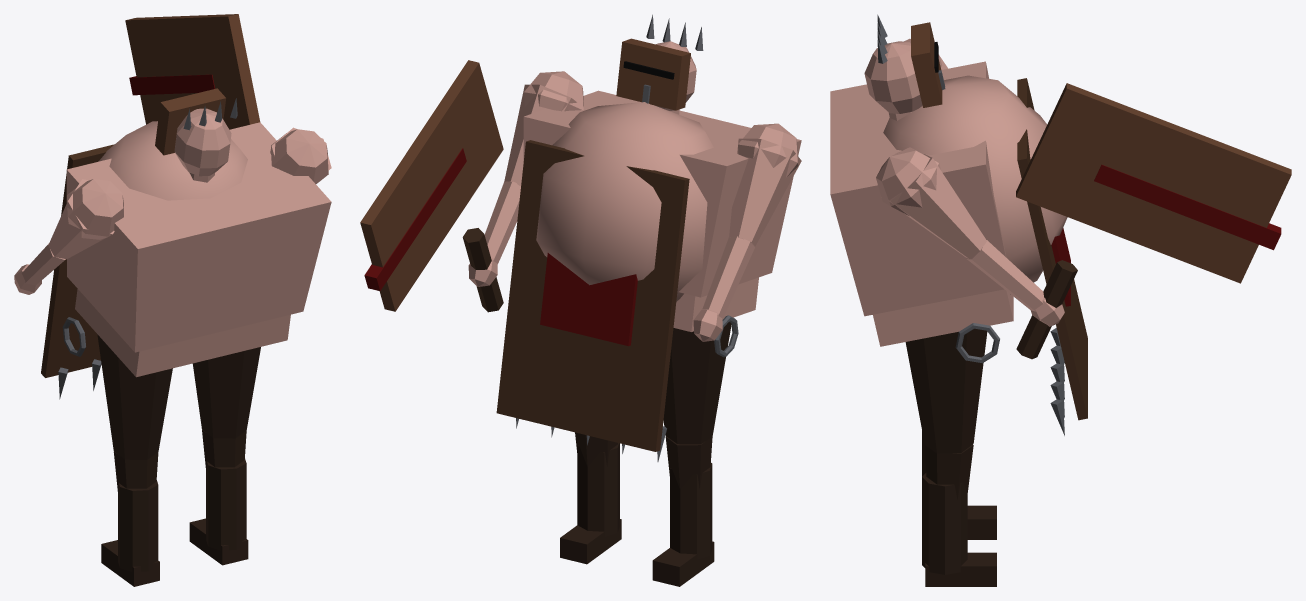
Rendered from brute.glb.
3 renders of one model, left to right at view 1: azimuth 30°, elevation 25°; view 2: azimuth 150°, elevation 25°; view 3: azimuth 270°, elevation 25°, orthographic. The views are drawn at different scales.
Parts seen in each view (by area): view 1: torso, leg_l, weapon, leg_r, head, arm_l, arm_r; view 2: torso, weapon, leg_l, arm_l, leg_r, arm_r, head; view 3: torso, weapon, leg_r, arm_r, head, leg_l.
Part boxes in pixels (x1,y1,x2,y2): torso: [41, 121, 331, 399]; leg_l: [97, 334, 172, 586]; weapon: [125, 14, 260, 129]; leg_r: [189, 347, 260, 565]; head: [155, 88, 237, 182]; arm_l: [14, 179, 124, 294]; arm_r: [270, 127, 331, 183]; torso: [496, 90, 801, 461]; weapon: [360, 60, 503, 312]; leg_l: [652, 322, 731, 586]; arm_l: [693, 123, 801, 341]; leg_r: [560, 432, 621, 564]; arm_r: [468, 71, 583, 286]; head: [616, 14, 703, 114]; torso: [830, 61, 1087, 435]; weapon: [1016, 83, 1291, 359]; leg_r: [905, 328, 996, 586]; arm_r: [876, 147, 1064, 326]; head: [864, 14, 945, 120]; leg_l: [922, 431, 996, 539].
Bounding box in the file's own units: 1.51 × 2.69 × 2.12.
